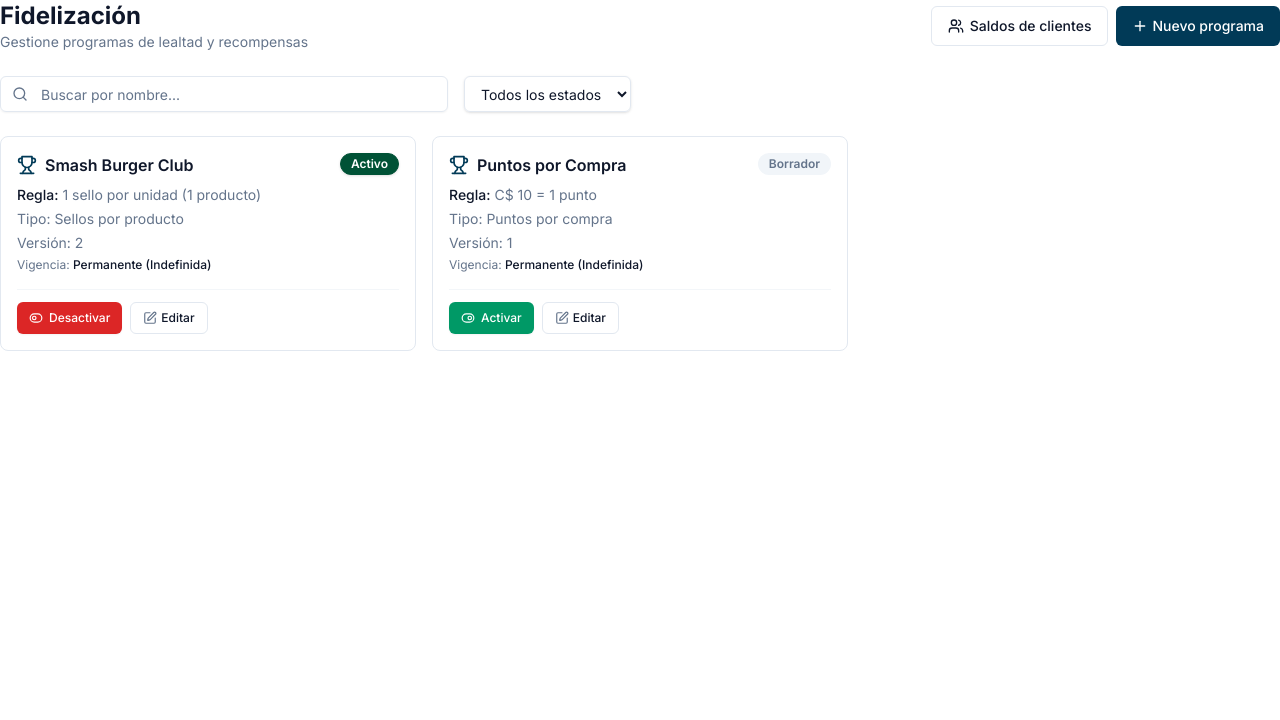
Test: LV1.5A & LV1.5B — LoyaltyPage (Programs & Rewards UI) › Program Activation, Deactivation & Editing (LV1.5A) › displays error message when program mutation fails
The image size is (1280, 720).
Click the button "Nuevo programa".
click(1198, 26)  # box top-left (1116, 6), bottom-right (1279, 46)
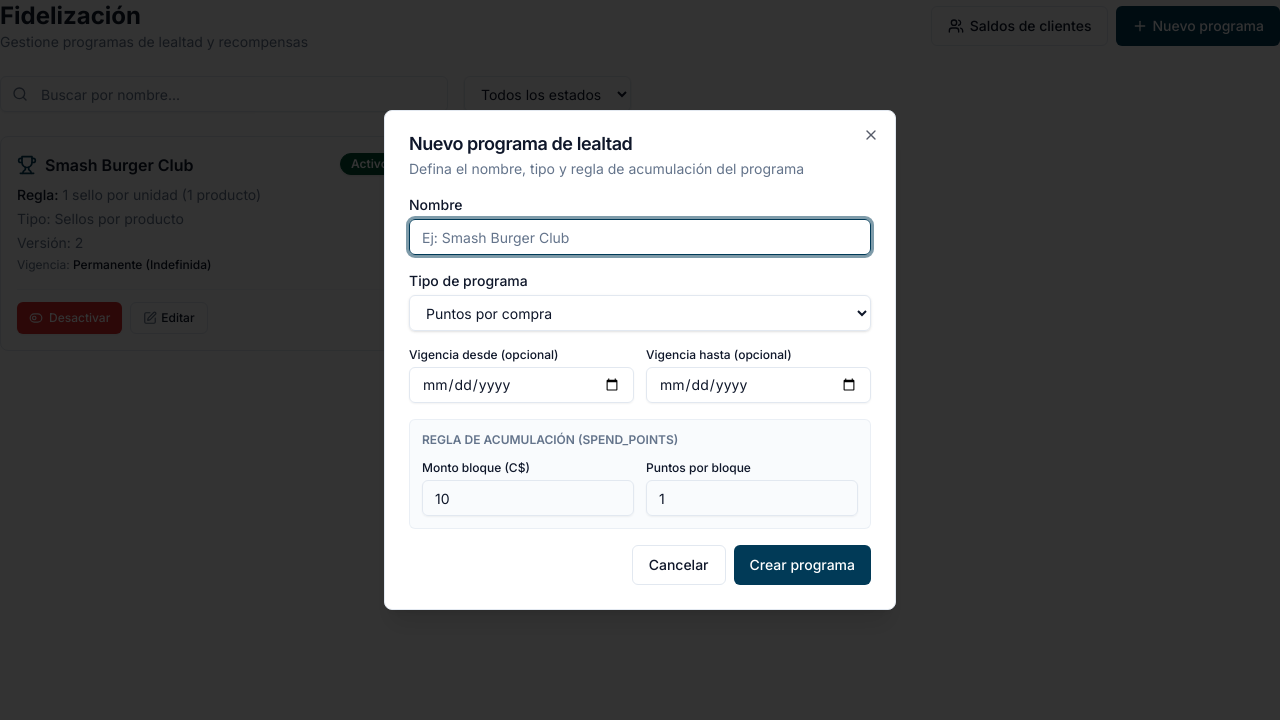
Type "Fail Program" into the field labelled "Nombre".
click(640, 237); type("Fail Program")  # box top-left (409, 219), bottom-right (871, 255)
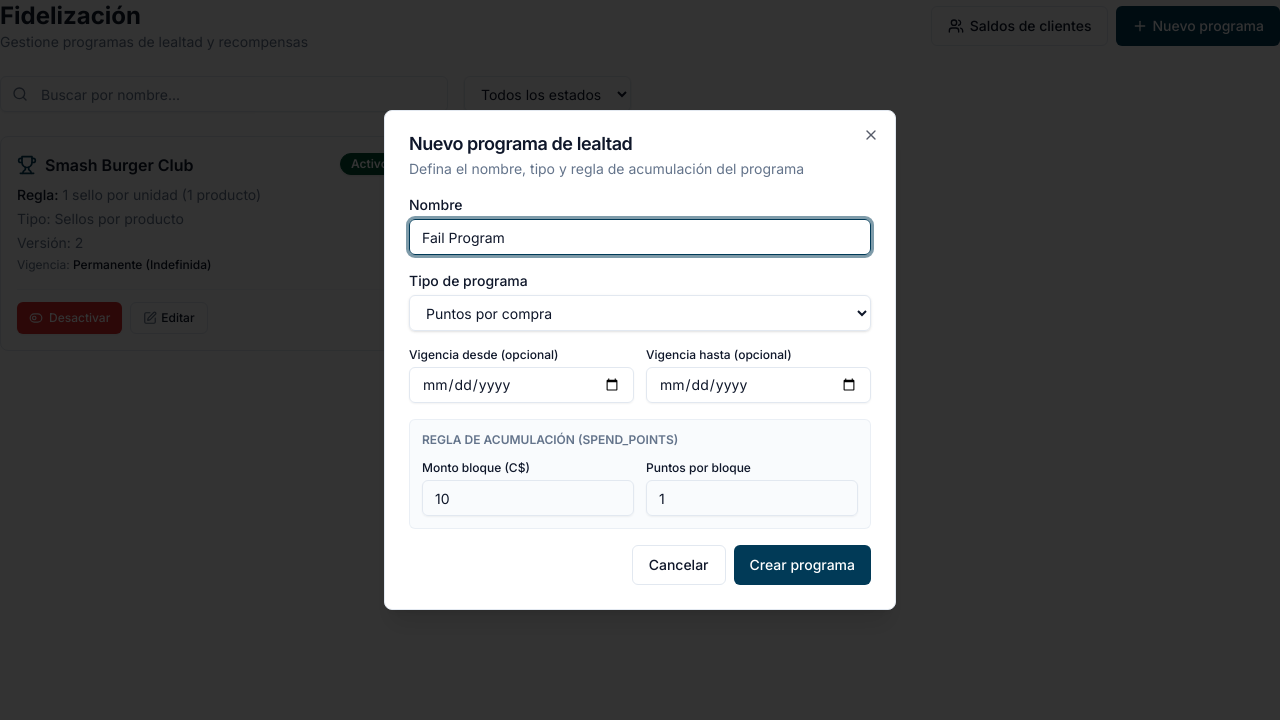
Click the button "Crear programa".
click(802, 565)  # box top-left (734, 545), bottom-right (871, 585)
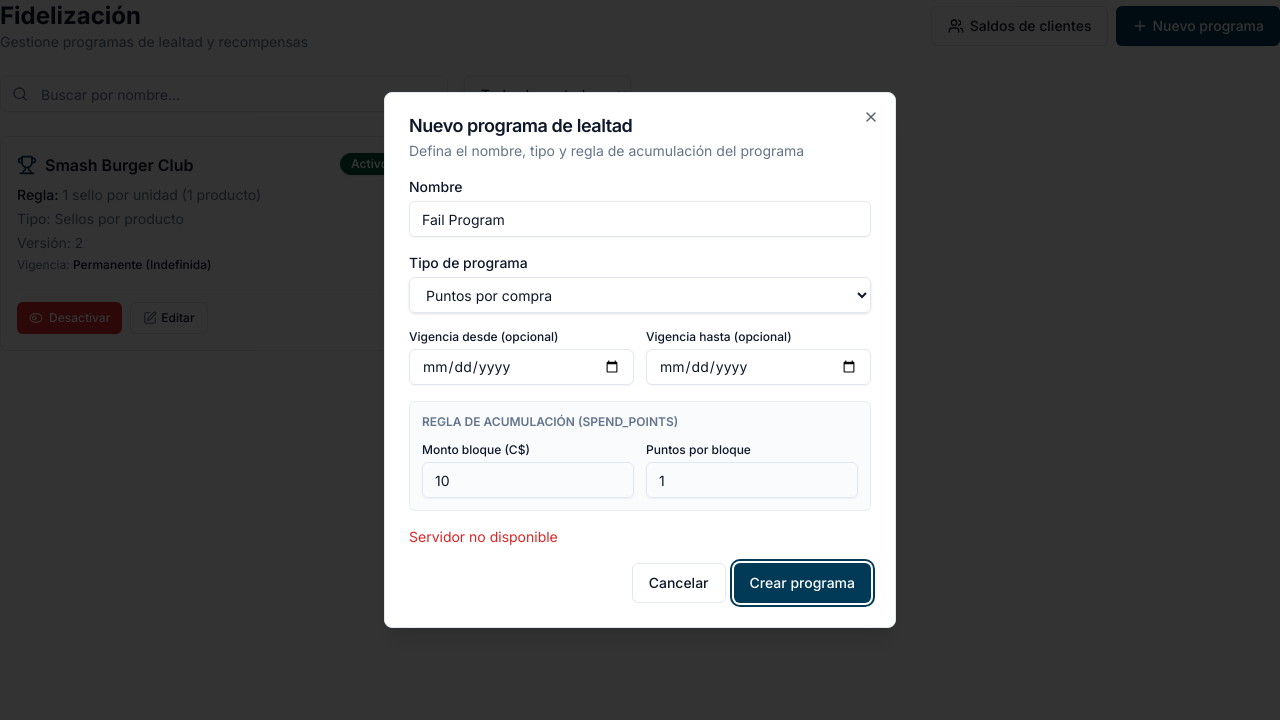
Result: the text "Servidor no disponible" is shown at top-left (409, 528), bottom-right (558, 545)
